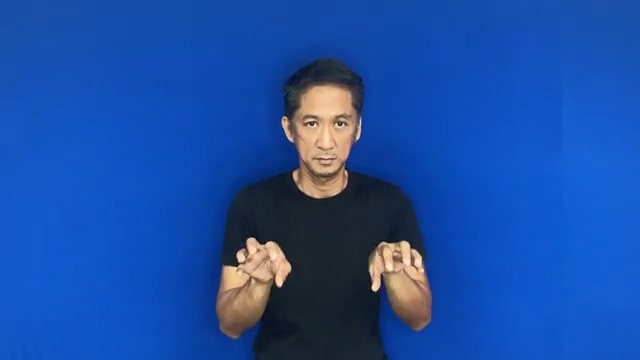egg: (228, 230, 432, 298)
